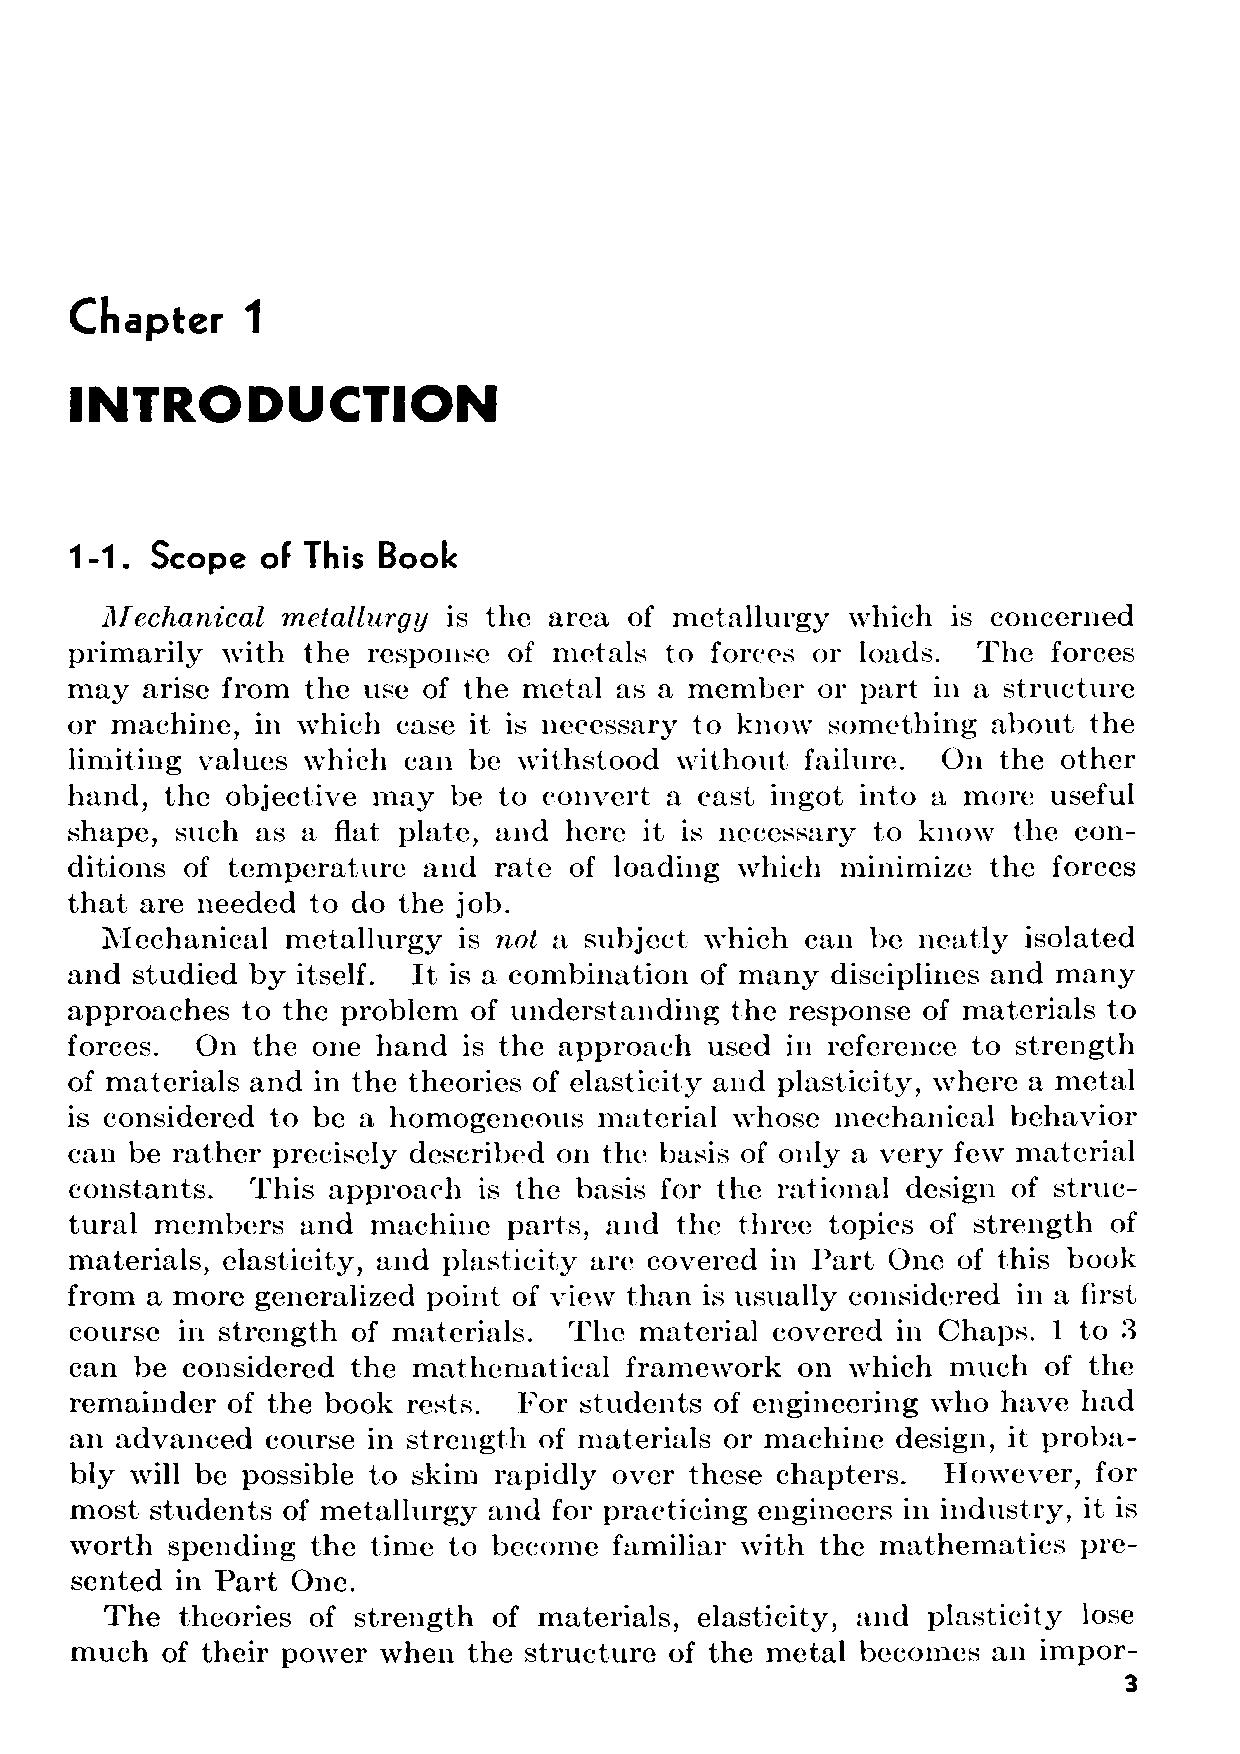chapter: (64, 290, 501, 425), (63, 535, 462, 577)
content: (63, 597, 1137, 1669)
content_pagenumber: (1119, 1672, 1138, 1695)
